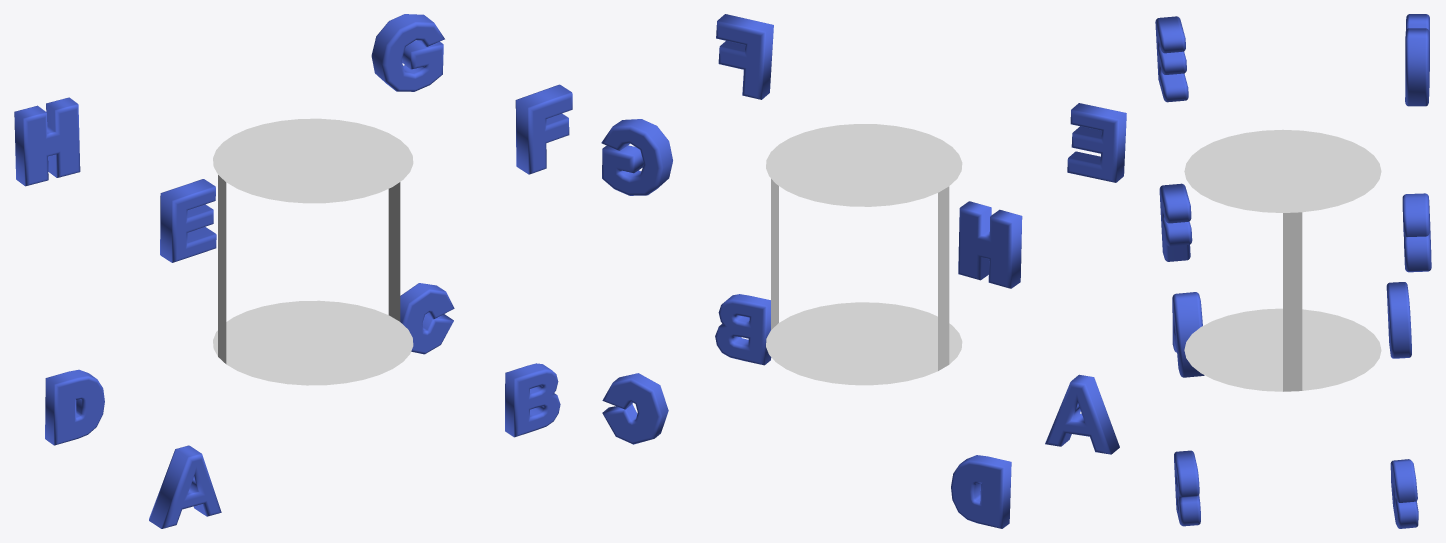
File: tabung3.glb
3 views of the same model, side by side, from view 1: azimuth 30°, elevation 25°; view 2: azimuth 150°, elevation 25°; view 3: azimuth 270°, elevation 25° (orthographic). The views are drawn at different scales.
Parts seen in each view (by area): view 1: Cylinder, Text.007, Text.006, Text.004, Text.003, Text.005, Text.009, Text.001, Text.002; view 2: Cylinder, Text.007, Text.006, Text.004, Text.003, Text.005, Text.002, Text.009, Text.001; view 3: Cylinder, Text.004, Text.007, Text.005, Text.006, Text.009, Text.001, Text.003, Text.002.
Part boxes in pixels (left/top/right/bottom): Cylinder: left=213, top=118, right=413, bottom=385; Text.007: left=14, top=97, right=80, bottom=186; Text.006: left=371, top=14, right=444, bottom=91; Text.004: left=160, top=179, right=216, bottom=262; Text.003: left=45, top=369, right=104, bottom=445; Text.005: left=515, top=84, right=572, bottom=174; Text.009: left=149, top=445, right=221, bottom=528; Text.001: left=505, top=363, right=560, bottom=437; Text.002: left=400, top=283, right=454, bottom=354; Cylinder: left=766, top=124, right=962, bottom=385; Text.007: left=958, top=201, right=1022, bottom=288; Text.006: left=601, top=119, right=672, bottom=195; Text.004: left=1067, top=103, right=1126, bottom=182; Text.003: left=951, top=455, right=1011, bottom=528; Text.005: left=716, top=14, right=773, bottom=99; Text.002: left=602, top=373, right=668, bottom=444; Text.009: left=1045, top=374, right=1119, bottom=454; Text.001: left=715, top=294, right=771, bottom=365; Cylinder: left=1184, top=129, right=1381, bottom=391; Text.004: left=1155, top=16, right=1188, bottom=102; Text.007: left=1405, top=14, right=1429, bottom=106; Text.005: left=1159, top=183, right=1192, bottom=261; Text.006: left=1402, top=193, right=1431, bottom=272; Text.009: left=1172, top=292, right=1204, bottom=377; Text.001: left=1174, top=450, right=1200, bottom=526; Text.003: left=1386, top=282, right=1411, bottom=358; Text.002: left=1390, top=459, right=1418, bottom=528.
Bounding box in the file's own units: 4.9 × 3.77 × 2.8.
